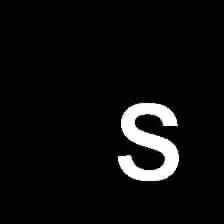LTR_S: (108, 92, 185, 184)
